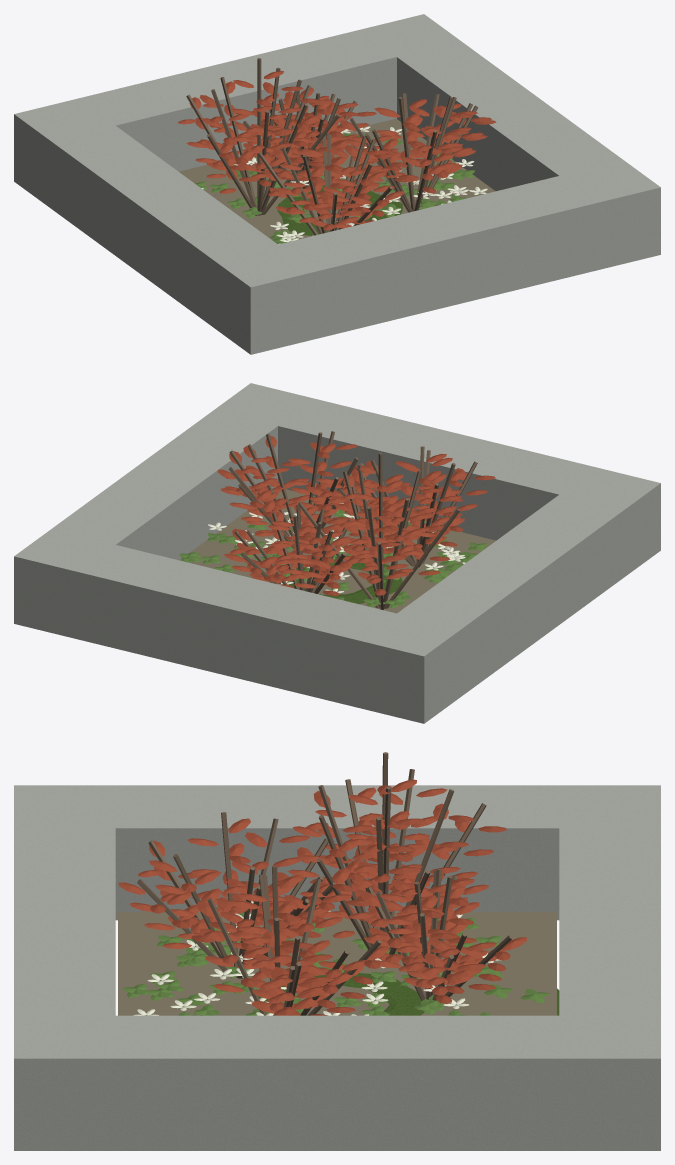
Rendered from planting_modules_v4.glb.
3 views of the same model, one above another, from view 1: azimuth 30°, elevation 25°; view 2: azimuth 150°, elevation 25°; view 3: azimuth 270°, elevation 25° (orthographic). The views are drawn at different scales.
Visible parts, largest first — view 1: TREEPIT_STONE_SEATS, PLANT_RED_LEAVES.001, PLANT_STEMS.002, TREEPIT_SOIL, WHITE_PATCH_LEAVES, WHITE_PATCH_PETALS, WHITE_PATCH_SOIL; view 2: TREEPIT_STONE_SEATS, PLANT_RED_LEAVES.001, PLANT_STEMS.002, TREEPIT_SOIL, WHITE_PATCH_LEAVES, WHITE_PATCH_PETALS, WHITE_PATCH_SOIL; view 3: TREEPIT_STONE_SEATS, PLANT_RED_LEAVES.001, TREEPIT_SOIL, PLANT_STEMS.002, WHITE_PATCH_LEAVES, WHITE_PATCH_PETALS, WHITE_PATCH_SOIL.
Boxes of the visible parts, x1,y1,x2,y2 form: TREEPIT_STONE_SEATS: [14, 14, 660, 354]; PLANT_RED_LEAVES.001: [178, 70, 496, 230]; PLANT_STEMS.002: [186, 58, 477, 235]; TREEPIT_SOIL: [179, 118, 495, 239]; WHITE_PATCH_LEAVES: [194, 133, 474, 243]; WHITE_PATCH_PETALS: [201, 126, 487, 244]; WHITE_PATCH_SOIL: [277, 185, 402, 235]; TREEPIT_STONE_SEATS: [14, 383, 660, 723]; PLANT_RED_LEAVES.001: [218, 435, 495, 595]; PLANT_STEMS.002: [228, 431, 477, 609]; TREEPIT_SOIL: [179, 489, 495, 613]; WHITE_PATCH_LEAVES: [179, 509, 487, 608]; WHITE_PATCH_PETALS: [208, 500, 465, 593]; WHITE_PATCH_SOIL: [285, 553, 402, 603]; TREEPIT_STONE_SEATS: [14, 785, 660, 1150]; PLANT_RED_LEAVES.001: [118, 779, 526, 1015]; TREEPIT_SOIL: [118, 912, 556, 1015]; PLANT_STEMS.002: [137, 752, 512, 1015]; WHITE_PATCH_LEAVES: [122, 912, 549, 1015]; WHITE_PATCH_PETALS: [133, 901, 500, 1015]; WHITE_PATCH_SOIL: [258, 967, 559, 1015].
Size of the model in its own units: 2.8 by 1.05 by 2.8.
8 materials, 3 textured.
